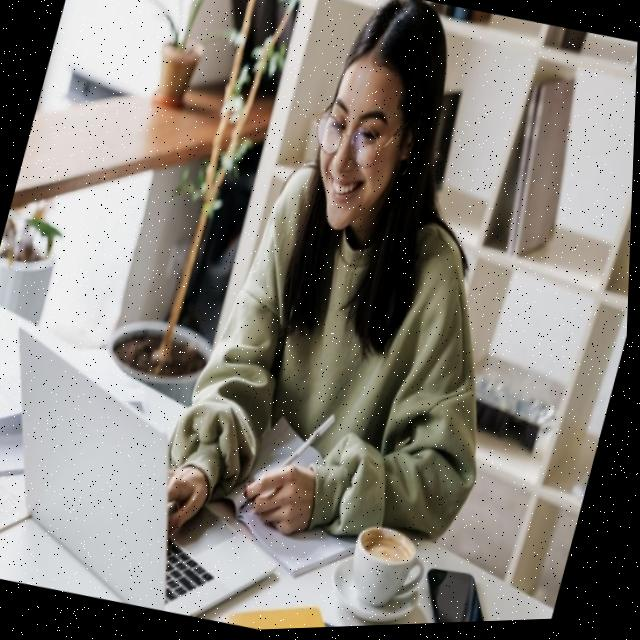studying-person: (126, 0, 603, 636)
